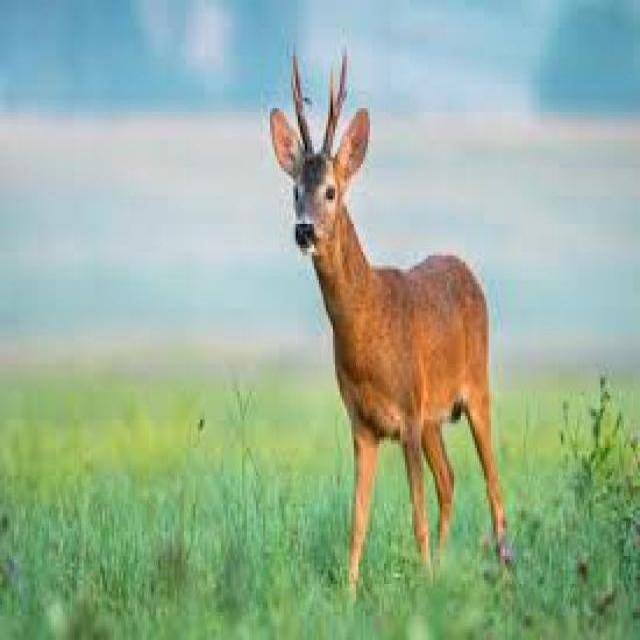deer: (262, 31, 513, 596)
